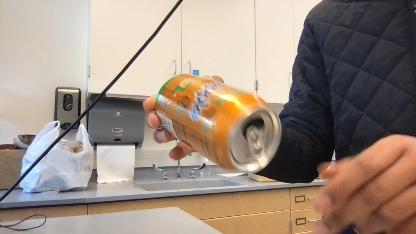Can: (154, 71, 286, 183)
